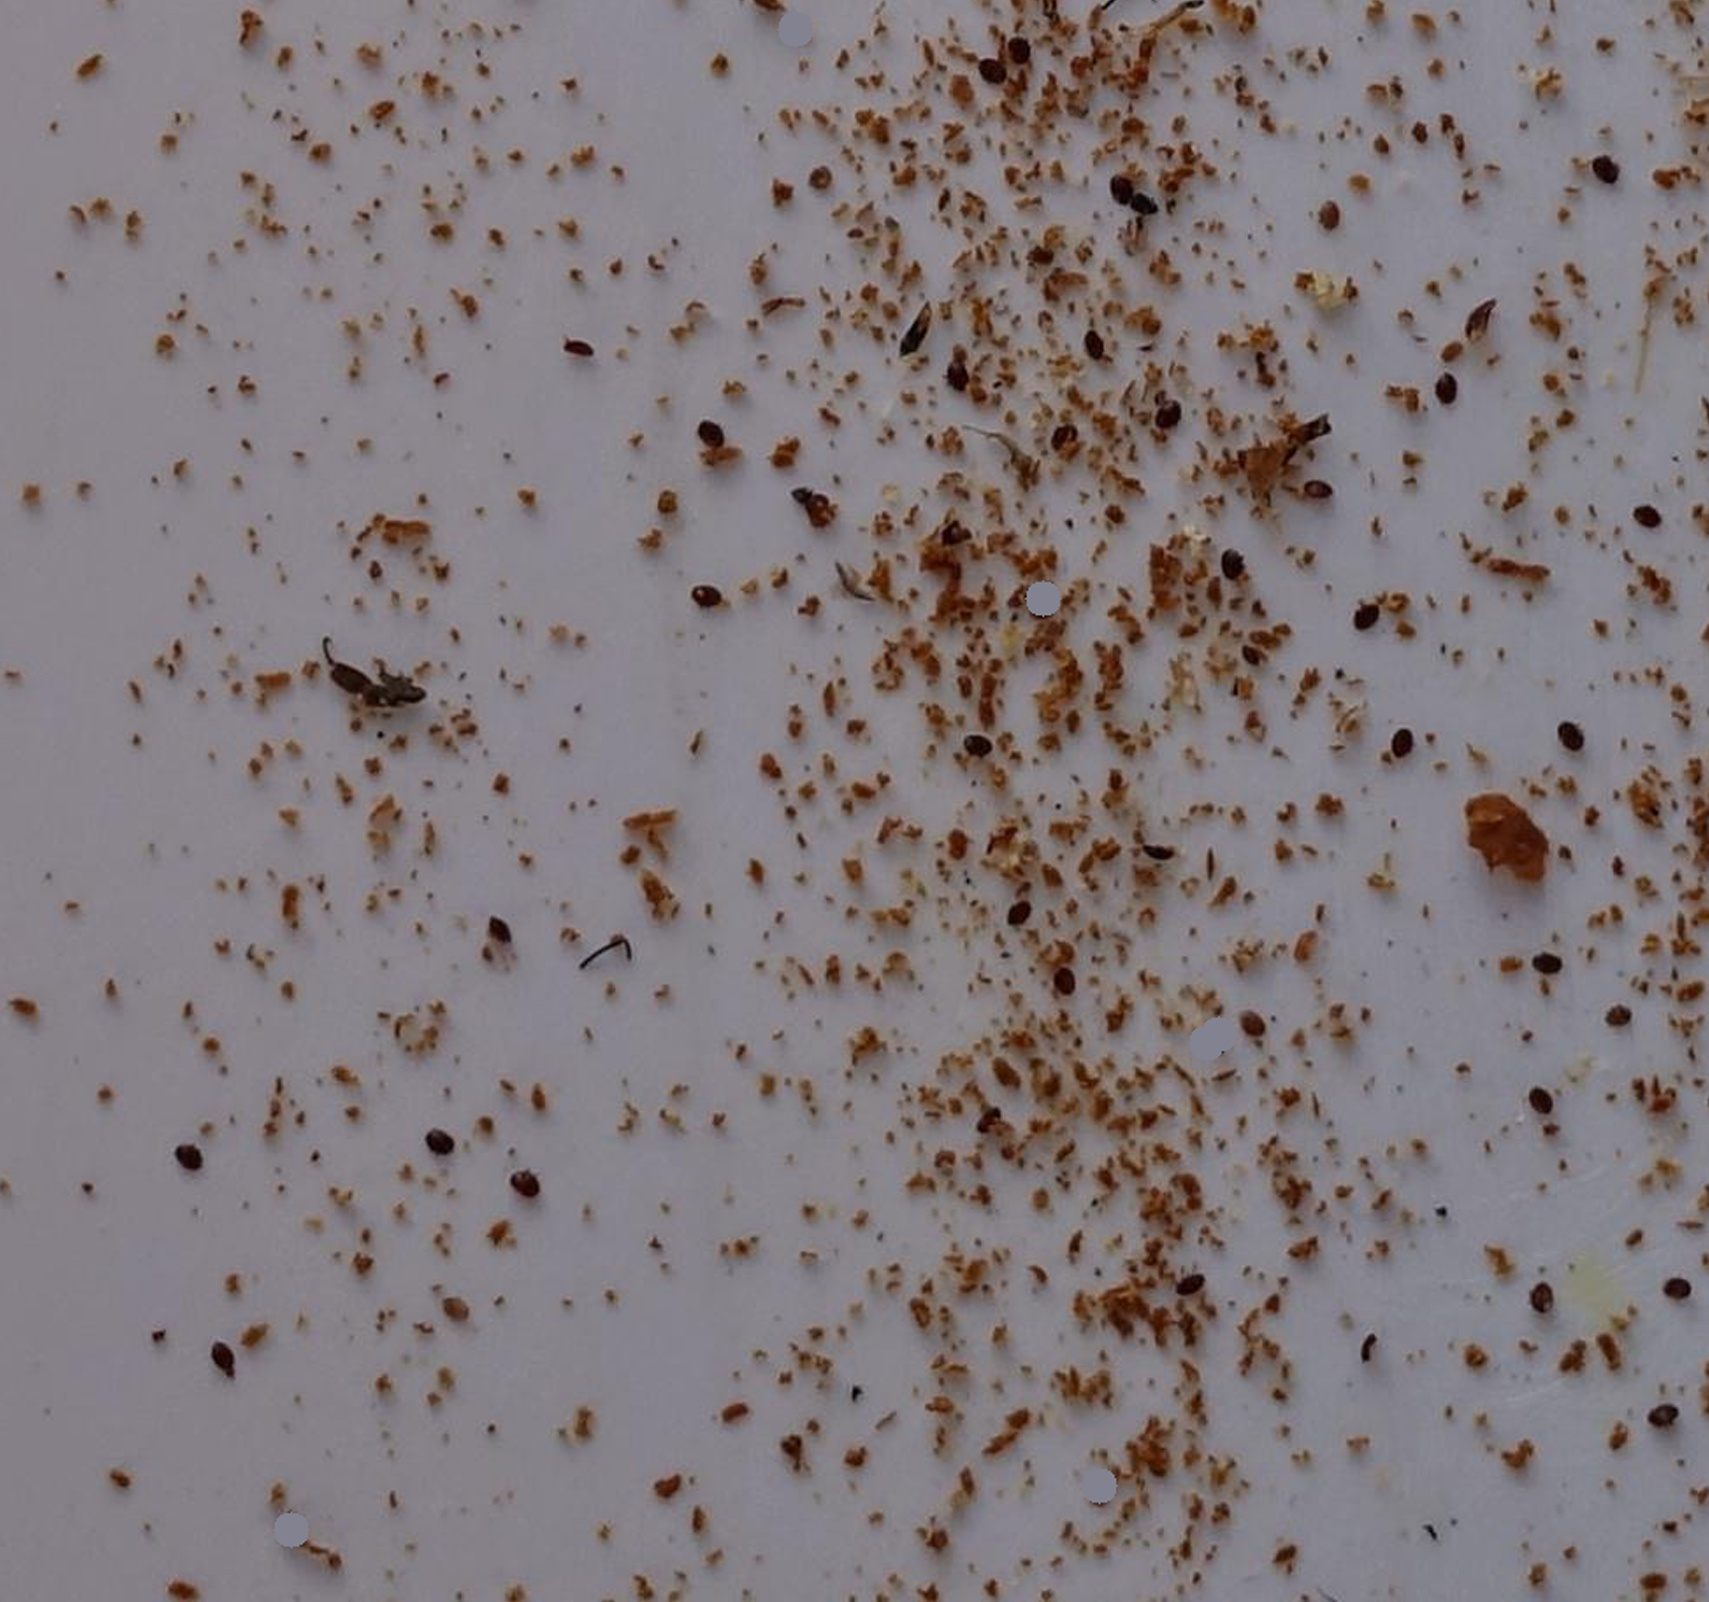Varroa: (1135, 833, 1171, 867), (940, 354, 973, 388), (1352, 598, 1384, 632), (1531, 946, 1560, 976), (1220, 553, 1247, 583), (206, 1340, 233, 1369), (1107, 169, 1134, 196), (512, 1170, 538, 1198), (694, 575, 723, 601), (1649, 1402, 1674, 1427), (1301, 473, 1327, 498), (1388, 732, 1414, 757), (1311, 199, 1337, 224), (1049, 423, 1074, 449), (699, 420, 723, 446), (1153, 400, 1177, 426), (1528, 1284, 1552, 1308), (1558, 726, 1581, 751), (178, 1144, 200, 1170), (979, 59, 1001, 83), (965, 730, 988, 754), (1007, 903, 1030, 927), (428, 1131, 450, 1155), (1080, 337, 1102, 361), (1009, 36, 1031, 59), (1177, 1265, 1200, 1287), (1608, 1003, 1629, 1025), (1592, 154, 1613, 176), (1433, 376, 1455, 399), (1525, 1089, 1546, 1110), (1665, 1275, 1686, 1296), (1640, 503, 1659, 525), (1053, 968, 1072, 991), (1238, 1016, 1257, 1039)
